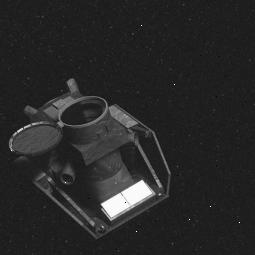cheops: (11, 75, 175, 247)
